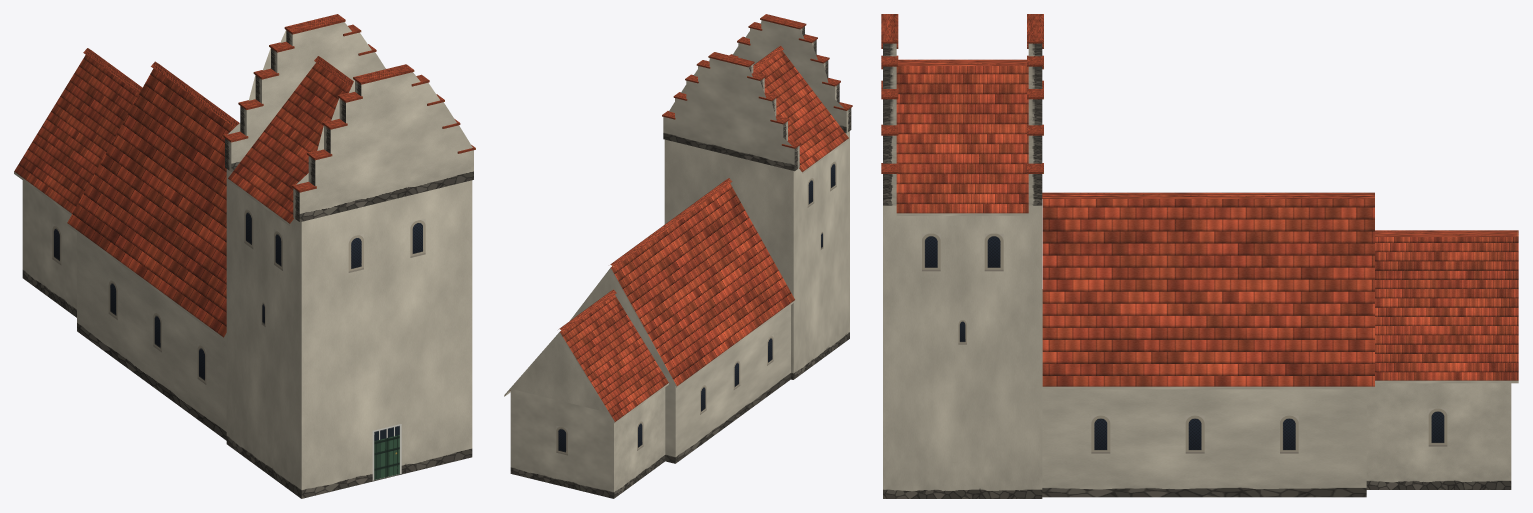
The model's file is SM_Church.fbx.
The picture shows the model from 3 angles, left to right: view 1: azimuth 30°, elevation 25°; view 2: azimuth 150°, elevation 25°; view 3: azimuth 270°, elevation 25°; orthographic projection. The views are drawn at different scales.
Visible parts, largest first — view 1: SM_Church; view 2: SM_Church; view 3: SM_Church.
Part boxes in pixels (x1,y1,x2,y2): SM_Church: [14, 14, 475, 498]; SM_Church: [504, 14, 852, 498]; SM_Church: [881, 14, 1518, 498].
Size of the model in its own units: 1060 by 3043 by 2250.
1 material, 1 textured.
